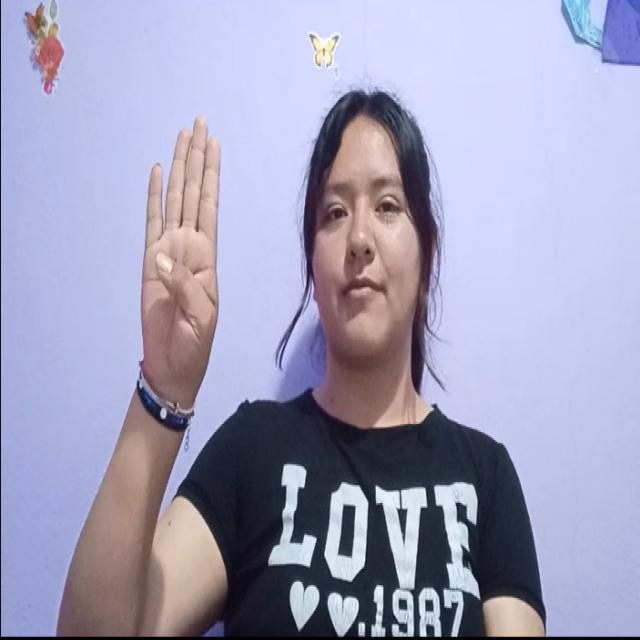B: (140, 120, 236, 385)
